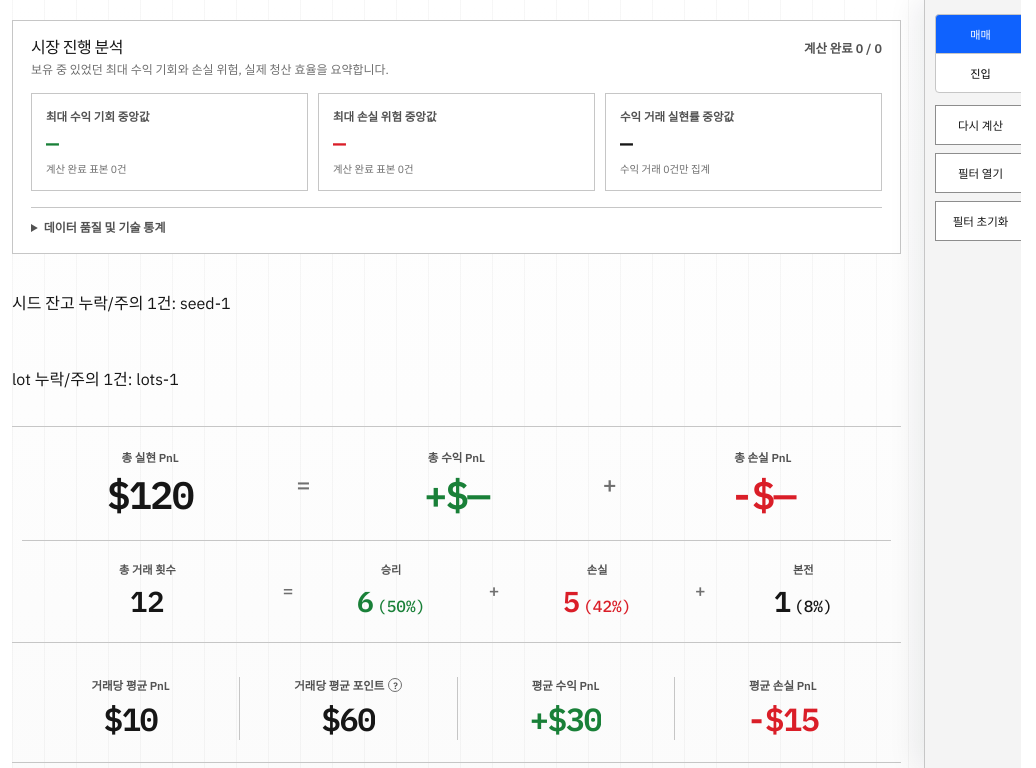
Test case: StatsPage › defaults to the first trade through the current Seoul date
Expected: the button "매매" is shown, [935,14,1026,54]
Click the button "필터 열기": point(980, 173) [935,153,1026,193]
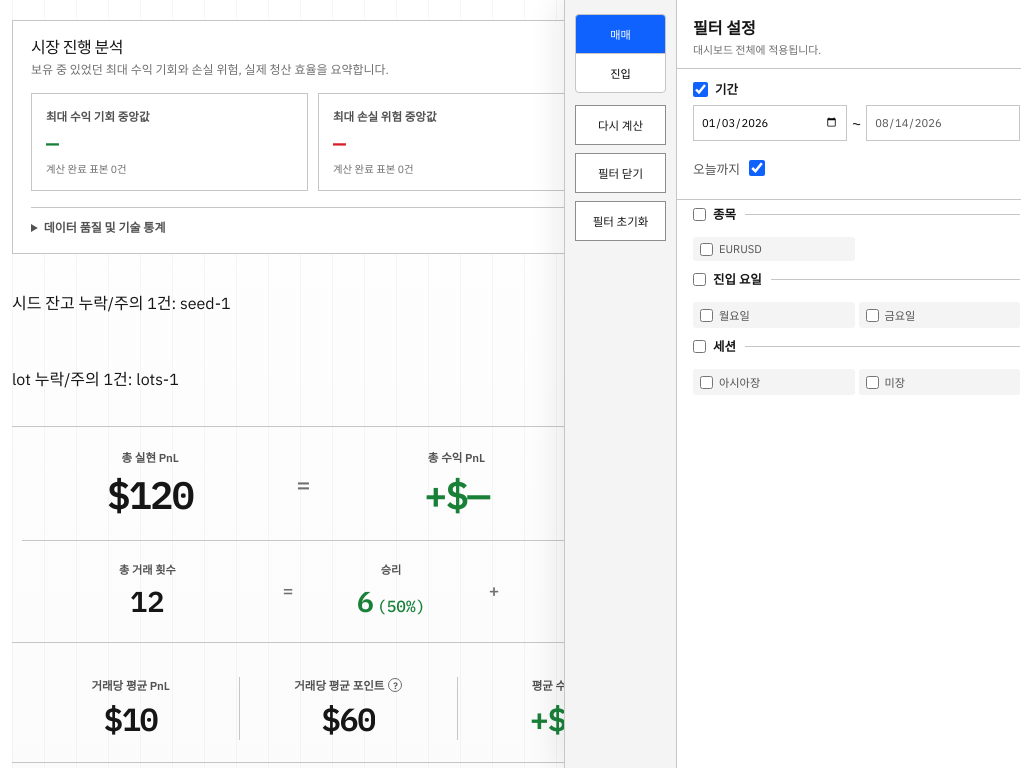
Result: the date field named "시작일" holds "2026-01-03" at [693,105,847,141]
Result: the date field named "종료일" is disabled at [866,105,1020,141]
Result: the checkbox labelled "오늘까지" is checked at [749,160,765,176]
